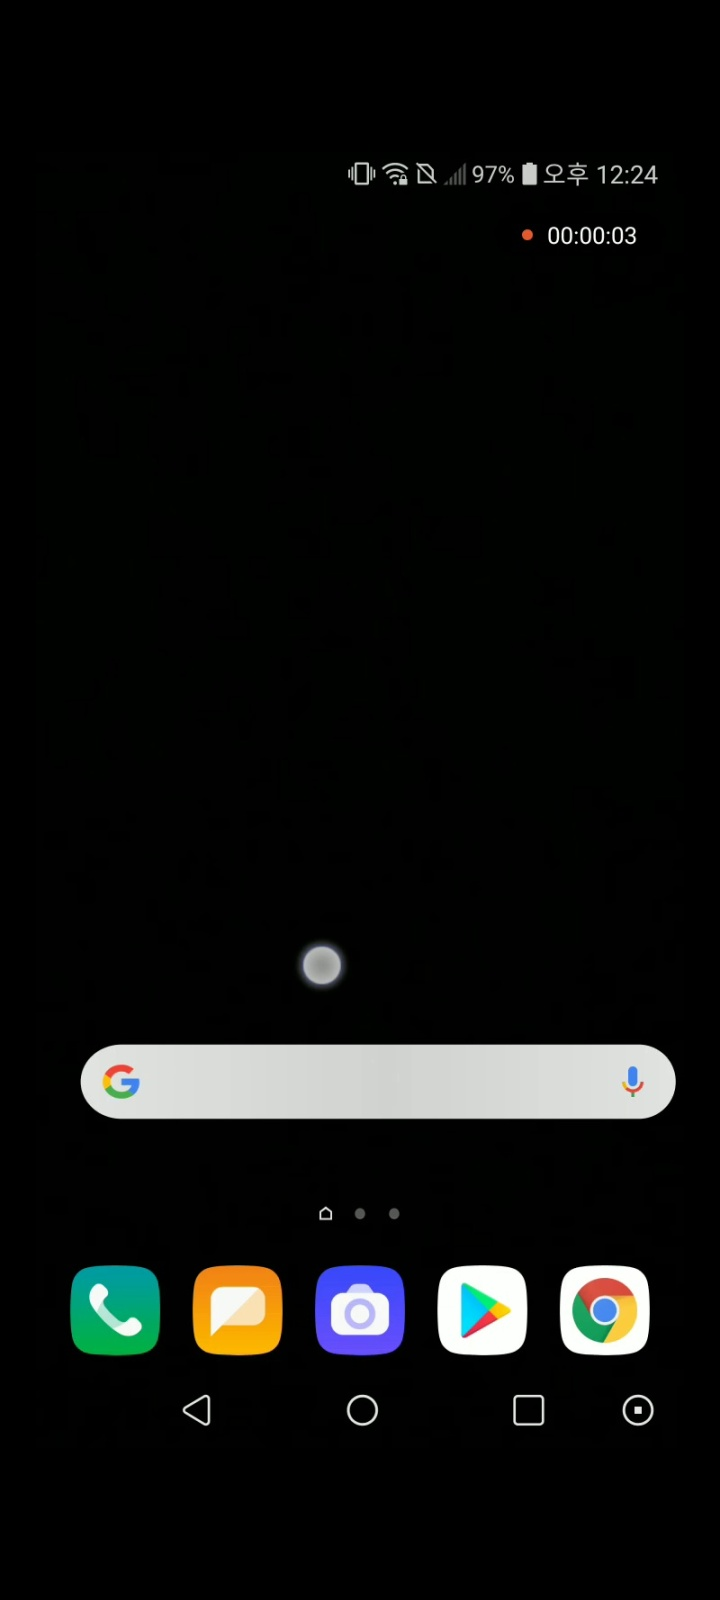Cursor: (298, 944, 343, 989)
